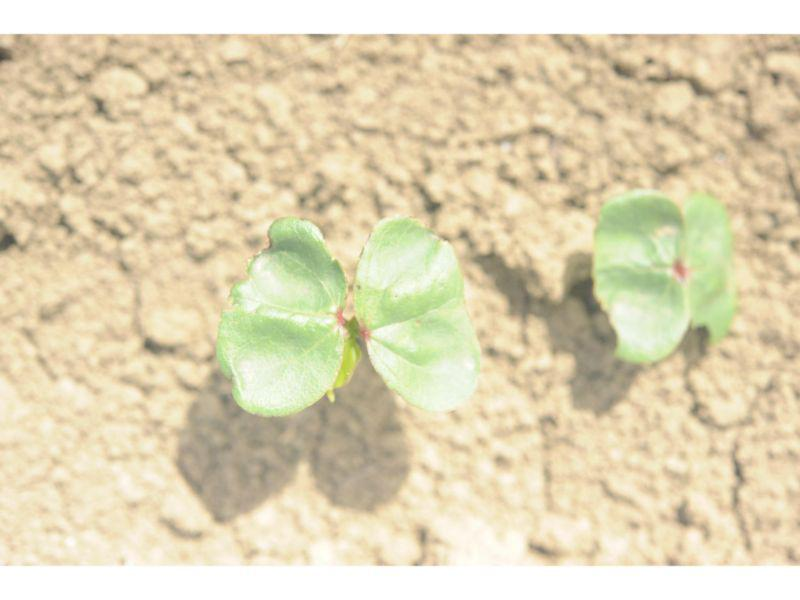cotton: (215, 212, 480, 411), (590, 189, 738, 366)
